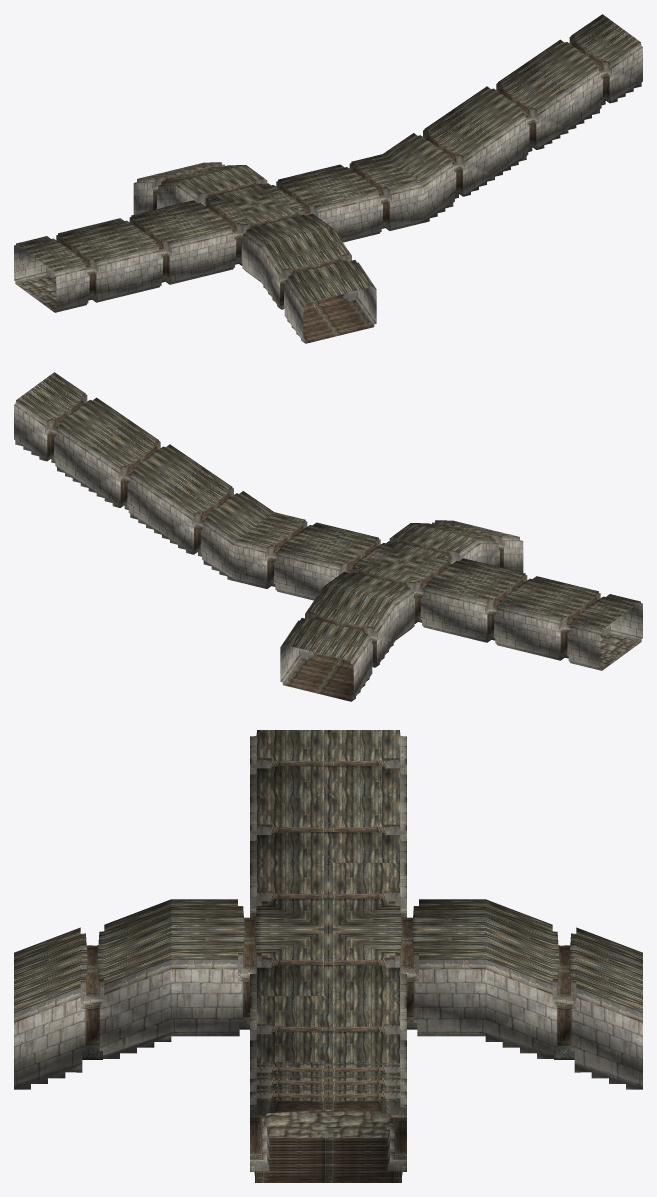
The model's file is stormwind_188.fbx.
3 renders of one model, top to bottom at view 1: azimuth 30°, elevation 25°; view 2: azimuth 150°, elevation 25°; view 3: azimuth 270°, elevation 25°, orthographic. The views are drawn at different scales.
Visible parts, largest first — view 1: stormwind_188_178, stormwind_188_177, stormwind_188_176, stormwind_188_179; view 2: stormwind_188_178, stormwind_188_177, stormwind_188_176, stormwind_188_179; view 3: stormwind_188_178, stormwind_188_176, stormwind_188_177, stormwind_188_179.
Part boxes in pixels (x1,y1,x2,y2): stormwind_188_178: (16, 14, 640, 302); stormwind_188_177: (14, 47, 642, 341); stormwind_188_176: (14, 35, 642, 343); stormwind_188_179: (16, 276, 56, 312); stormwind_188_178: (16, 372, 640, 660); stormwind_188_177: (14, 405, 642, 699); stormwind_188_176: (14, 393, 642, 701); stormwind_188_179: (600, 634, 640, 670); stormwind_188_178: (14, 730, 642, 1101); stormwind_188_176: (14, 732, 642, 1182); stormwind_188_177: (14, 969, 642, 1086); stormwind_188_179: (262, 1109, 394, 1137).
Bounding box in the file's own units: 88.89 × 22.57 × 44.44.
